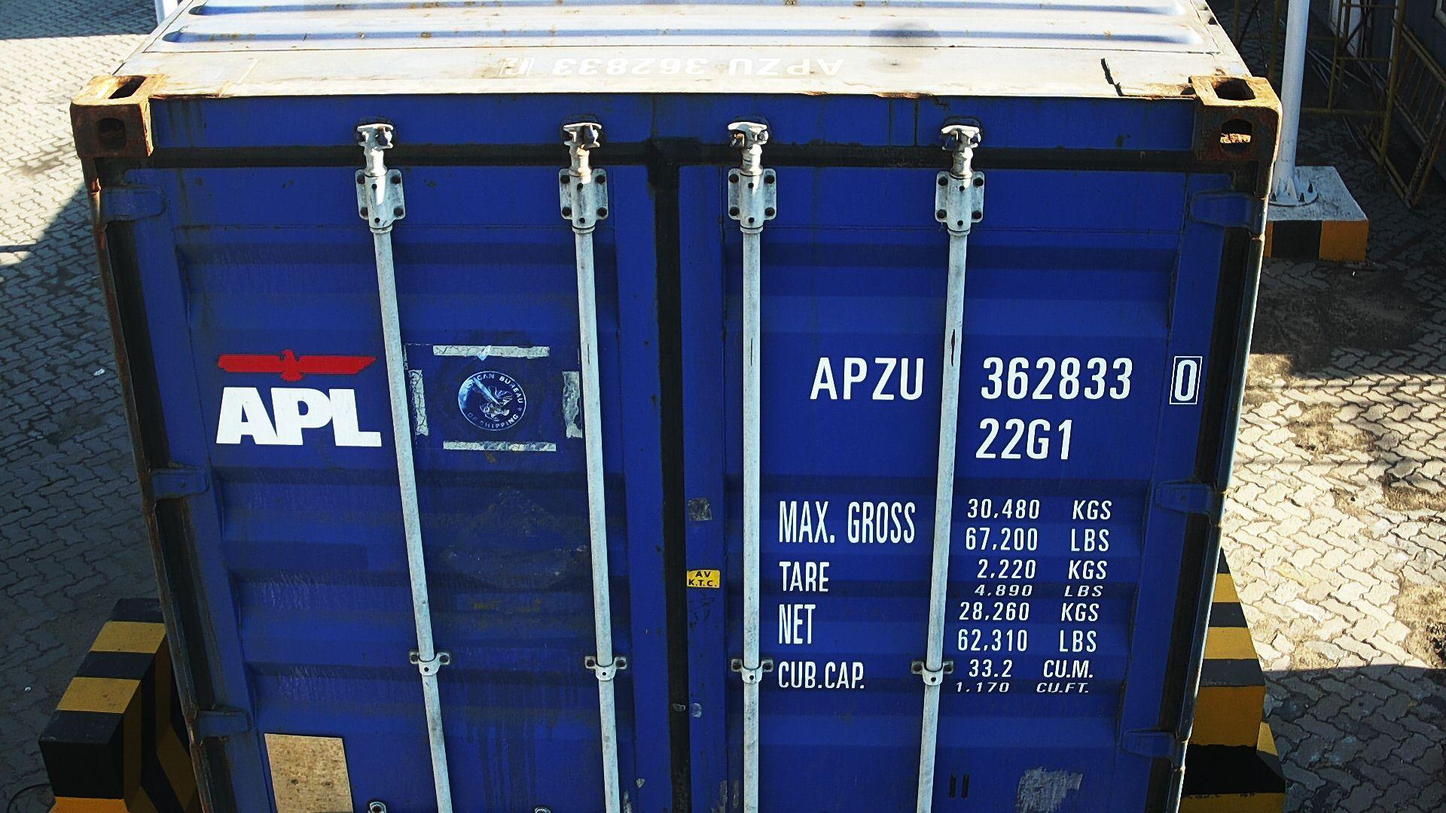container-numbers: (801, 350, 1205, 407), (975, 416, 1081, 465)
